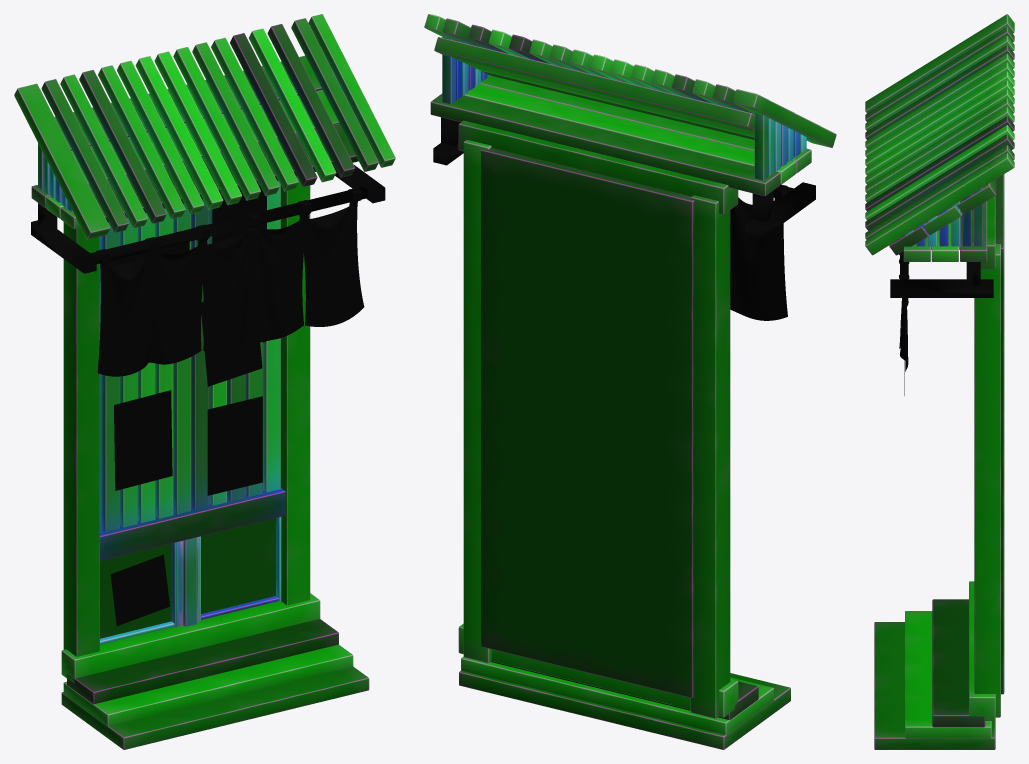
The model's file is door_400x350_01.fbx.
3 renders of one model, left to right at view 1: azimuth 30°, elevation 25°; view 2: azimuth 150°, elevation 25°; view 3: azimuth 270°, elevation 25°, orthographic. The views are drawn at different scales.
Visible parts, largest first — view 1: door_400x350_01; view 2: door_400x350_01; view 3: door_400x350_01.
Part boxes in pixels (x1,y1,x2,y2): door_400x350_01: (14, 14, 395, 749); door_400x350_01: (424, 14, 836, 749); door_400x350_01: (865, 14, 1014, 749).
Size of the model in its own units: 1.55 by 2.94 by 0.6597.
